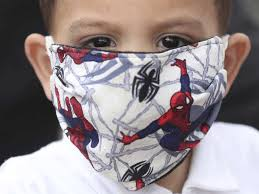FaceMask: (47, 37, 227, 190)
